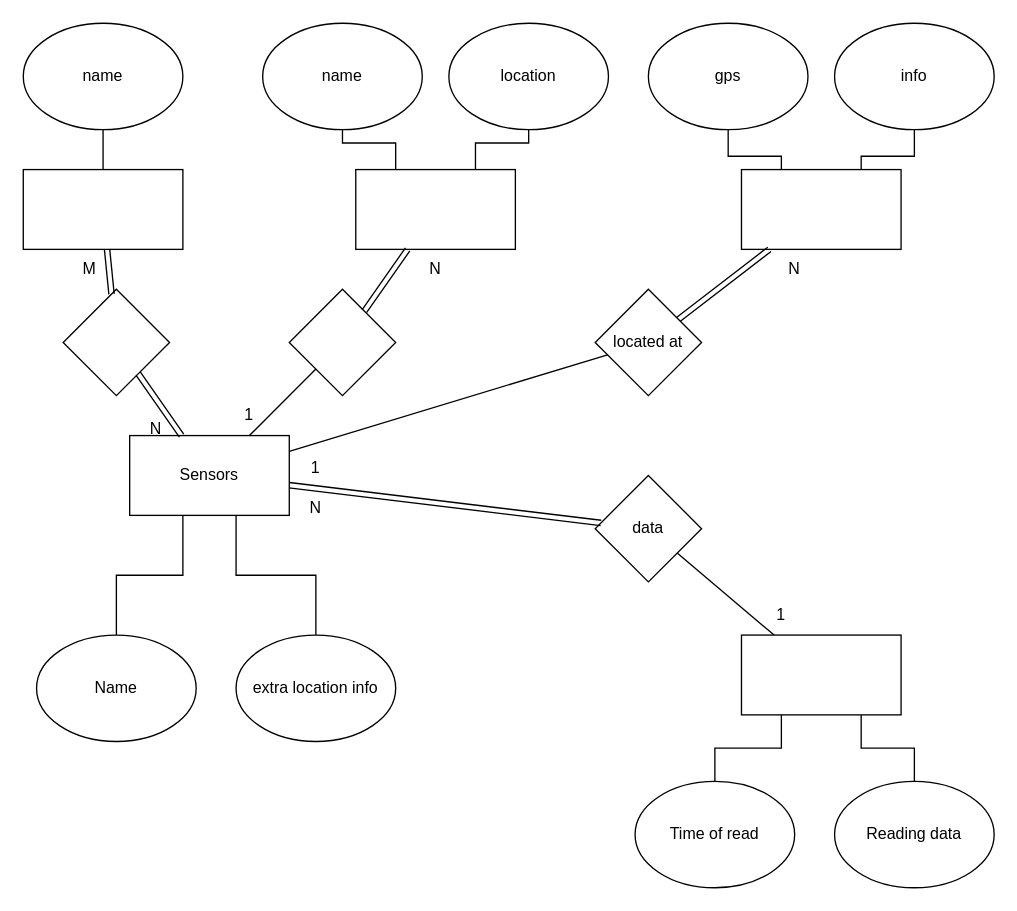
This 1017x911 diagram has some shape labels left out. Each missing label, with the box of its shape:
connected to: (288, 288, 396, 396)
Gateways: (354, 168, 515, 249)
Locations: (740, 168, 901, 249)
Sensor types: (22, 168, 183, 249)
Sensor values: (740, 634, 901, 715)
type of: (62, 288, 170, 396)
